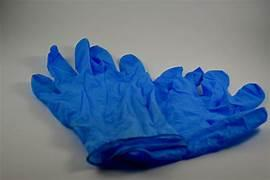Glove: (31, 39, 184, 167), (154, 67, 266, 158)
